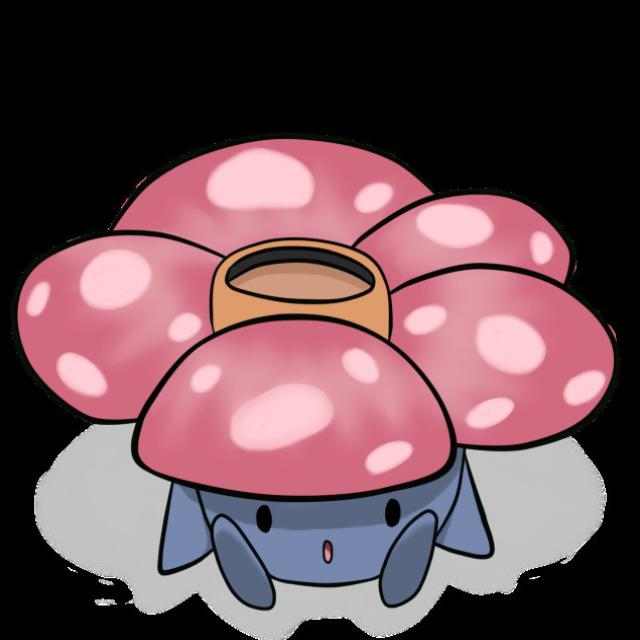Vileplume: (117, 107, 536, 592)
